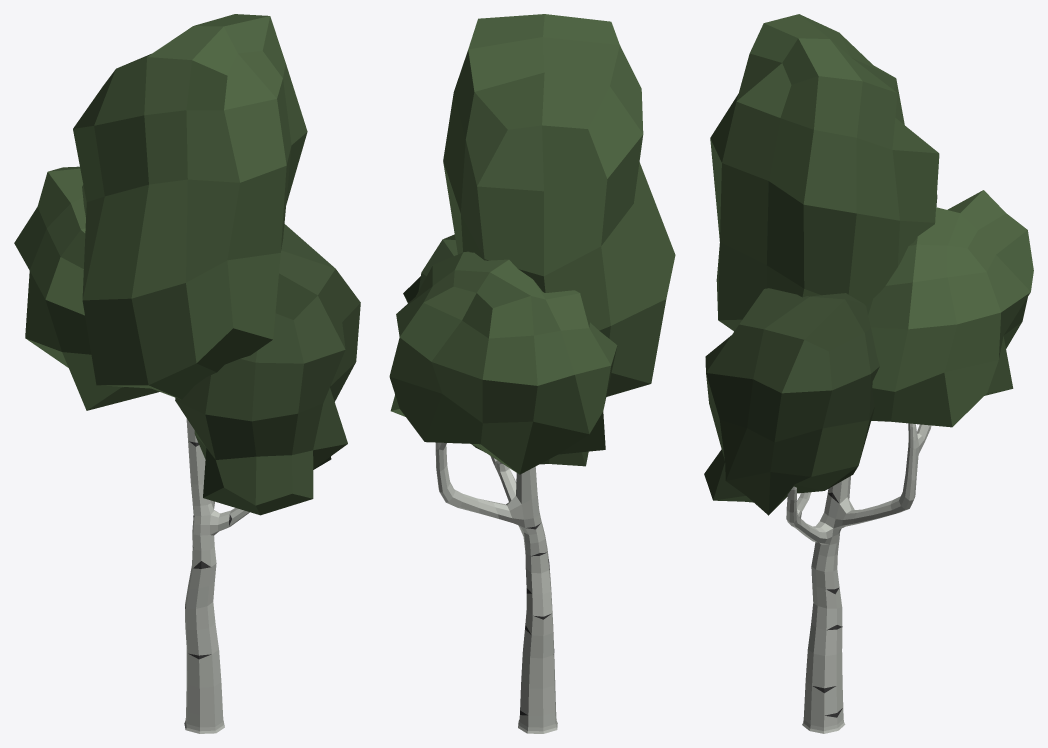
File: BirchTree_3.gltf
3 views of the same model, side by side, from view 1: azimuth 30°, elevation 25°; view 2: azimuth 150°, elevation 25°; view 3: azimuth 270°, elevation 25° (orthographic). The views are drawn at different scales.
Parts seen in each view (by area): view 1: BirchTree_3; view 2: BirchTree_3; view 3: BirchTree_3.
Part boxes in pixels (left/top/right/bottom): BirchTree_3: left=14, top=14, right=360, bottom=733; BirchTree_3: left=389, top=14, right=675, bottom=733; BirchTree_3: left=704, top=14, right=1033, bottom=733.
Bounding box in the file's own units: 1.57 × 4.09 × 1.77.
